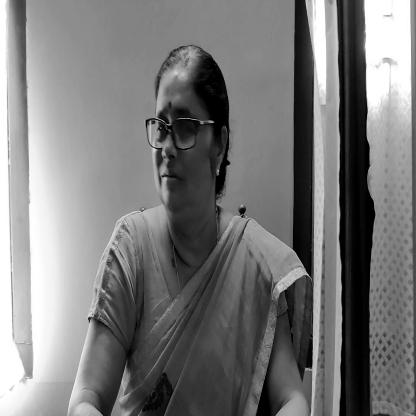Distracted: (148, 48, 224, 225)
